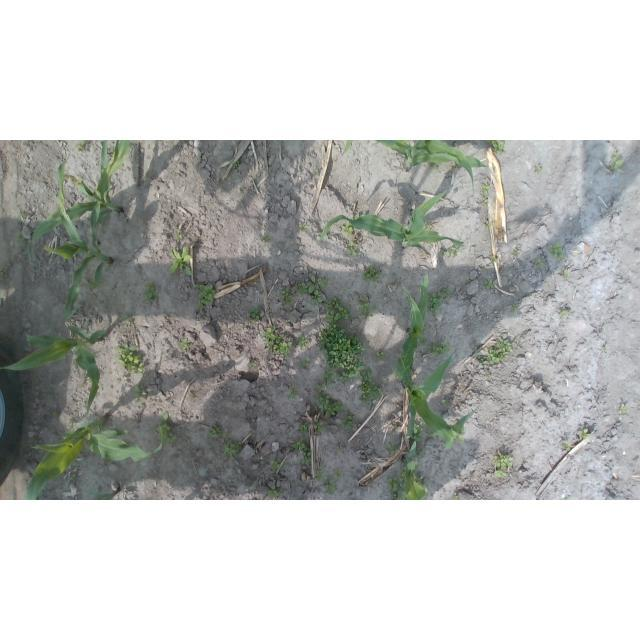Maize: (25, 141, 132, 266), (25, 414, 164, 500), (45, 141, 112, 318), (1, 324, 108, 417), (320, 190, 465, 254), (343, 140, 504, 188), (393, 357, 476, 448), (401, 274, 431, 375), (397, 440, 427, 500), (80, 486, 121, 500)
Weeds: (318, 322, 366, 382), (116, 344, 145, 377), (262, 325, 292, 355), (358, 370, 382, 405), (167, 245, 194, 276), (316, 391, 344, 418), (426, 286, 450, 317), (486, 338, 513, 364), (156, 411, 176, 446), (325, 298, 352, 323), (492, 451, 513, 479), (194, 283, 214, 311), (308, 276, 326, 305), (356, 297, 377, 320), (388, 476, 407, 500), (427, 341, 451, 358), (143, 281, 160, 304), (361, 265, 379, 284), (223, 439, 242, 457), (548, 242, 565, 261), (280, 286, 296, 306), (609, 152, 624, 173), (485, 141, 506, 156), (411, 421, 425, 443), (340, 411, 356, 430), (133, 386, 148, 403), (342, 220, 355, 239), (325, 475, 338, 494), (206, 425, 222, 440), (248, 306, 262, 322), (346, 241, 358, 257), (301, 447, 312, 464), (292, 438, 305, 452), (268, 485, 281, 499), (385, 441, 397, 456), (314, 466, 325, 482), (270, 458, 282, 472), (297, 335, 308, 349), (289, 384, 300, 398), (314, 419, 325, 433), (313, 382, 331, 390), (75, 140, 87, 152), (14, 232, 26, 244), (122, 314, 132, 328), (427, 162, 442, 171), (180, 339, 191, 351), (579, 428, 590, 440), (448, 247, 460, 258), (297, 283, 308, 294), (67, 419, 78, 430), (299, 357, 311, 367), (174, 230, 183, 243), (481, 184, 490, 197), (401, 458, 407, 477), (485, 279, 495, 290), (300, 422, 308, 435), (261, 232, 271, 242), (449, 161, 459, 171), (1, 267, 8, 281), (418, 478, 430, 486), (619, 403, 627, 415), (534, 164, 543, 174), (456, 435, 465, 444), (416, 447, 425, 456), (536, 259, 545, 268), (419, 337, 428, 346), (376, 352, 385, 361), (232, 160, 240, 170), (223, 429, 231, 439), (480, 196, 488, 206), (510, 304, 518, 314), (477, 355, 485, 365), (334, 470, 342, 479), (514, 248, 523, 256), (484, 221, 492, 230), (71, 475, 78, 485), (559, 309, 570, 315), (562, 442, 570, 450), (88, 279, 94, 289), (563, 269, 569, 279), (300, 223, 307, 231), (16, 214, 23, 222), (350, 214, 359, 220), (441, 399, 450, 405), (54, 409, 59, 419), (425, 220, 432, 227), (249, 359, 255, 367), (486, 372, 492, 380), (470, 343, 478, 349), (188, 391, 194, 398), (453, 493, 459, 500), (337, 446, 343, 453), (439, 249, 446, 255), (491, 255, 497, 261), (600, 327, 605, 333), (314, 169, 319, 175), (466, 278, 470, 285), (393, 425, 398, 430), (483, 265, 489, 269), (526, 293, 531, 296), (451, 140, 457, 142), (362, 214, 365, 216)
